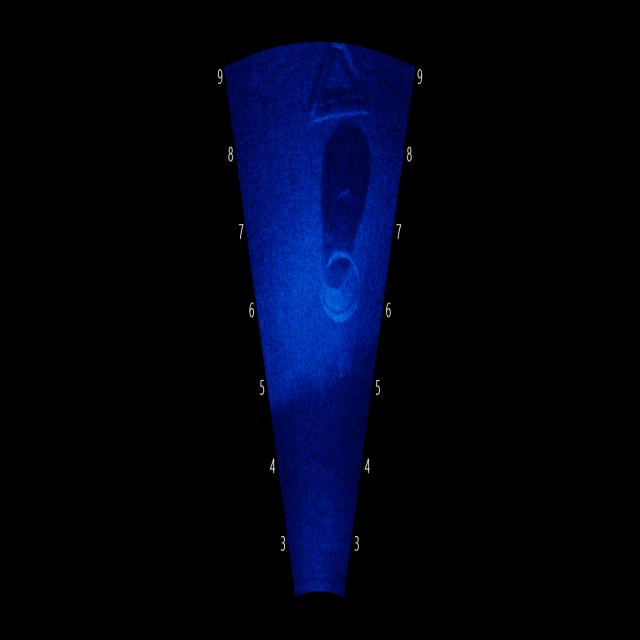circle: (303, 202, 370, 356)
triangle: (290, 44, 381, 150)
